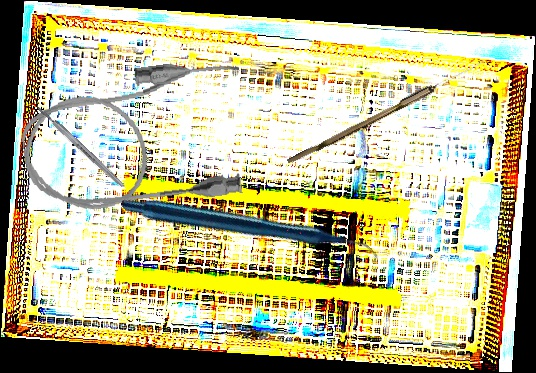Cannula: (14, 54, 257, 222)
Handpiece: (119, 99, 381, 363)
Scalpel Handle: (35, 104, 126, 190)
Surgical Spoon: (286, 55, 488, 169)
